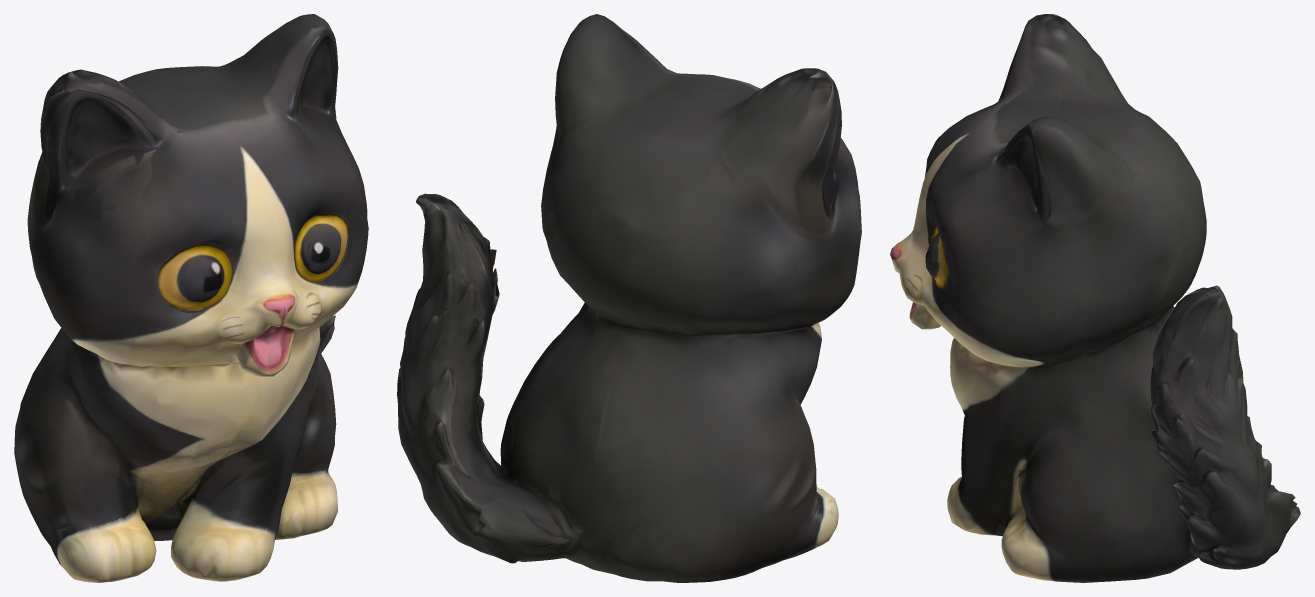
The model's file is cat.glb.
3 renders of one model, left to right at view 1: azimuth 30°, elevation 25°; view 2: azimuth 150°, elevation 25°; view 3: azimuth 270°, elevation 25°, orthographic. The views are drawn at different scales.
Bounding box in the file's own units: 1.58 × 2 × 1.62.
1 material, 1 textured.
